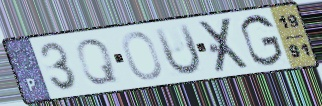3: (39, 40, 77, 92)
G: (238, 13, 286, 69)
O: (120, 30, 165, 82)
Q: (74, 37, 122, 86)
U: (151, 21, 204, 78)
X: (196, 15, 253, 75)
